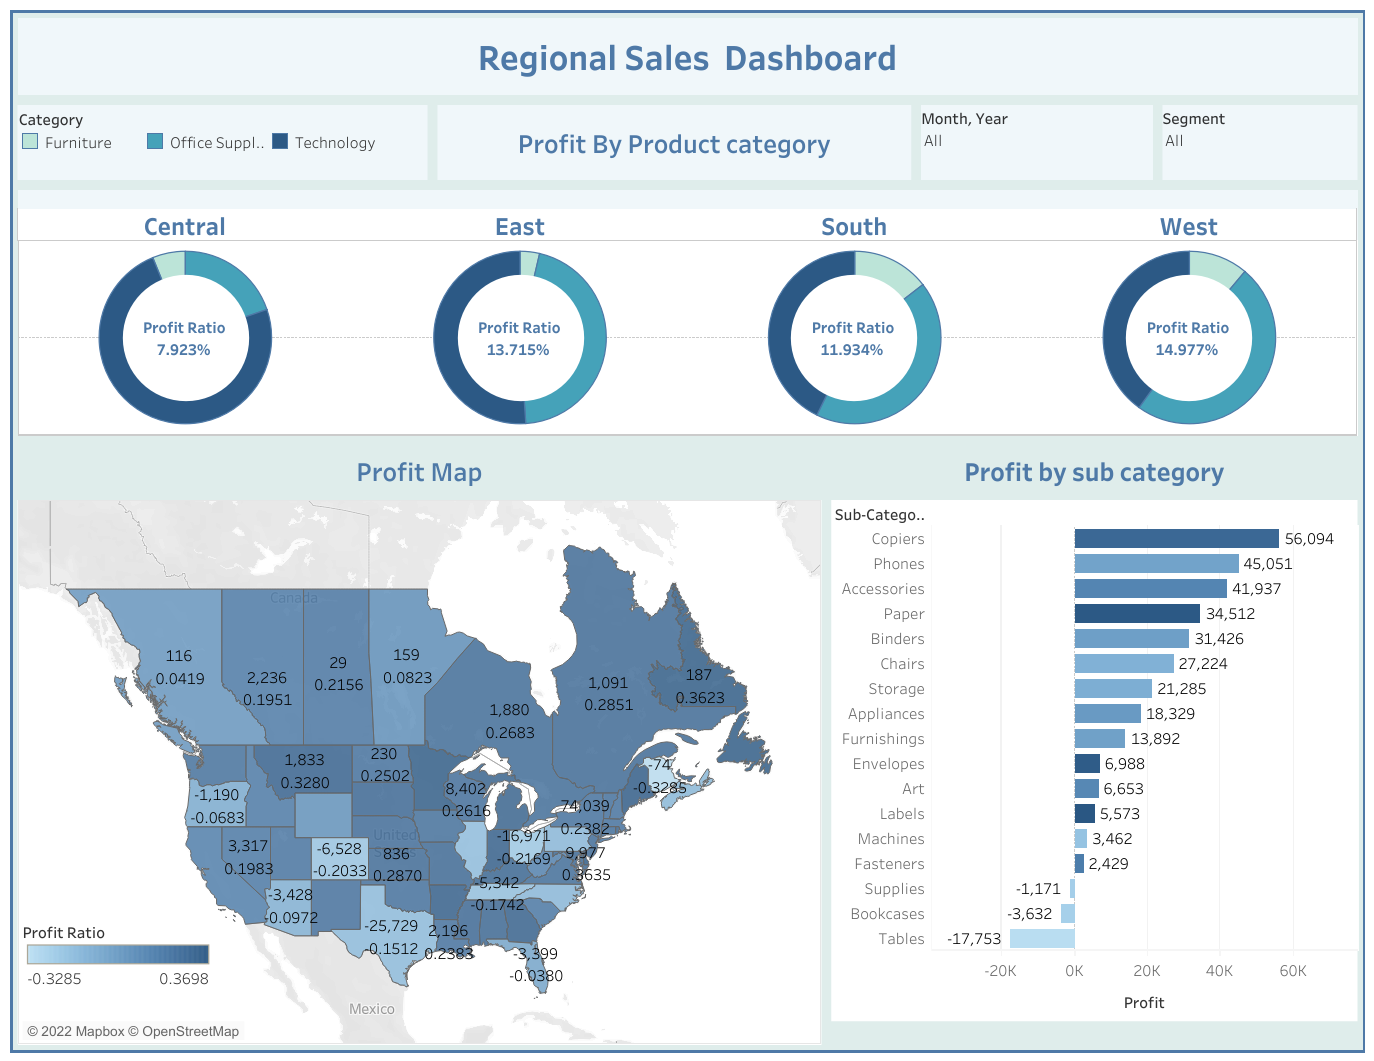

What the dashboard file says about the page in this screenshot:
{"tool":"tableau","page":{"name":"Dashboard 1","canvas":[1100,850],"ordinal":0},"visuals":[{"type":"text","box":[10,10,1080,70.2]},{"type":"legend","title":"Profit Region Donut","param":"[federated.1biro730y0252f16v2q8718j7rml].[none:Category:nk]","box":[10,80.2,336,68.1]},{"type":"text","box":[346,80.2,387,68.1]},{"type":"filter","title":"Profit Region Donut","param":"[federated.1biro730y0252f16v2q8718j7rml].[my:Order Date:ok]","box":[733,80.2,192.8,68.1]},{"type":"filter","title":"Profit Region Donut","param":"[federated.1biro730y0252f16v2q8718j7rml].[none:Segment:nk]","box":[925.8,80.2,164.2,68.1]},{"type":"worksheet","title":"Profit Region Donut","mark":"Automatic","rows":["Calculation_580119994913533953","Calculation_580119994913574915"],"cols":["Region"],"box":[10,148.3,1080,204.3]},{"type":"worksheet","title":"Profit Map","mark":"Automatic","box":[10,352.6,651,487.4]},{"type":"worksheet","title":"Profit by sub category","mark":"Automatic","rows":["Sub-Category"],"cols":["Profit"],"box":[661,352.6,429,487.4]},{"type":"legend","title":"Profit Map","param":"[federated.1biro730y0252f16v2q8718j7rml].[usr:Calculation_580119994950930452:qk]","box":[17.6,732.1,154,74.4]}]}

Visuals, with their boxes in screenshot pixels (x1, y1, x2, y2), scaled from the page's 1100x850 canvas onto the 1374x1061 screenshot:
text: left=12, top=12, right=1362, bottom=100
"Profit Region Donut" legend: left=12, top=100, right=432, bottom=185
text: left=432, top=100, right=916, bottom=185
"Profit Region Donut" filter: left=916, top=100, right=1156, bottom=185
"Profit Region Donut" filter: left=1156, top=100, right=1362, bottom=185
"Profit Region Donut" worksheet: left=12, top=185, right=1362, bottom=440
"Profit Map" worksheet: left=12, top=440, right=826, bottom=1049
"Profit by sub category" worksheet: left=826, top=440, right=1362, bottom=1049
"Profit Map" legend: left=22, top=914, right=214, bottom=1007
